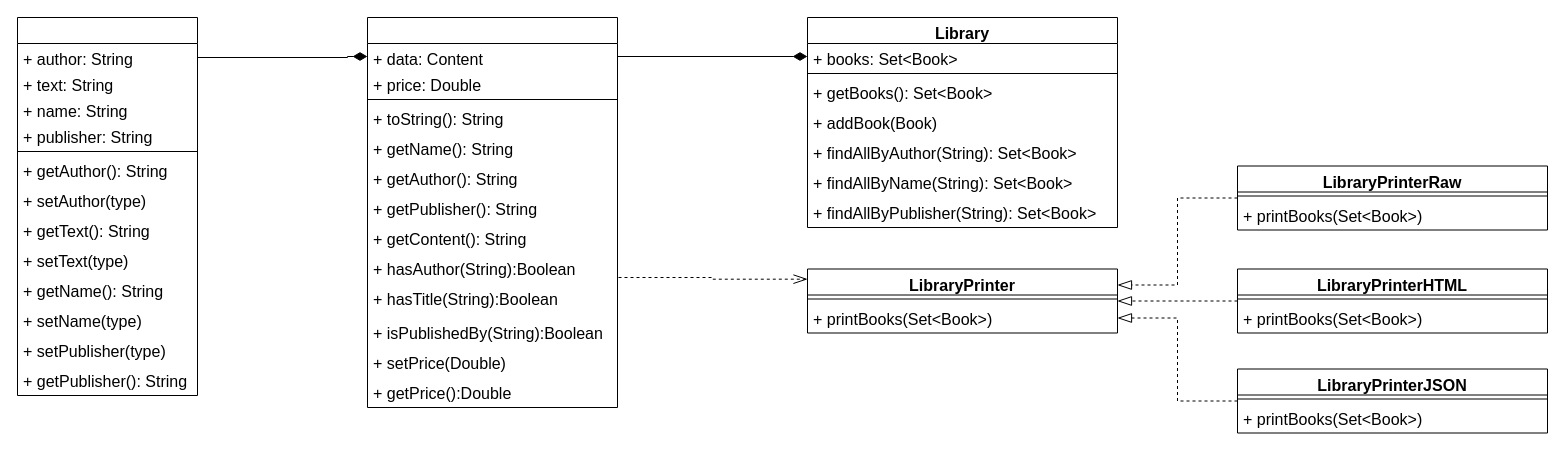
This 1565x453 diagram has some shape labels left out. The shapes that lost their labels are listed below. From the top down, each one's box as (x1, y1, x2, y2) in pixels, then its label:
(16, 16, 198, 396): Content
(366, 16, 618, 408): Books
